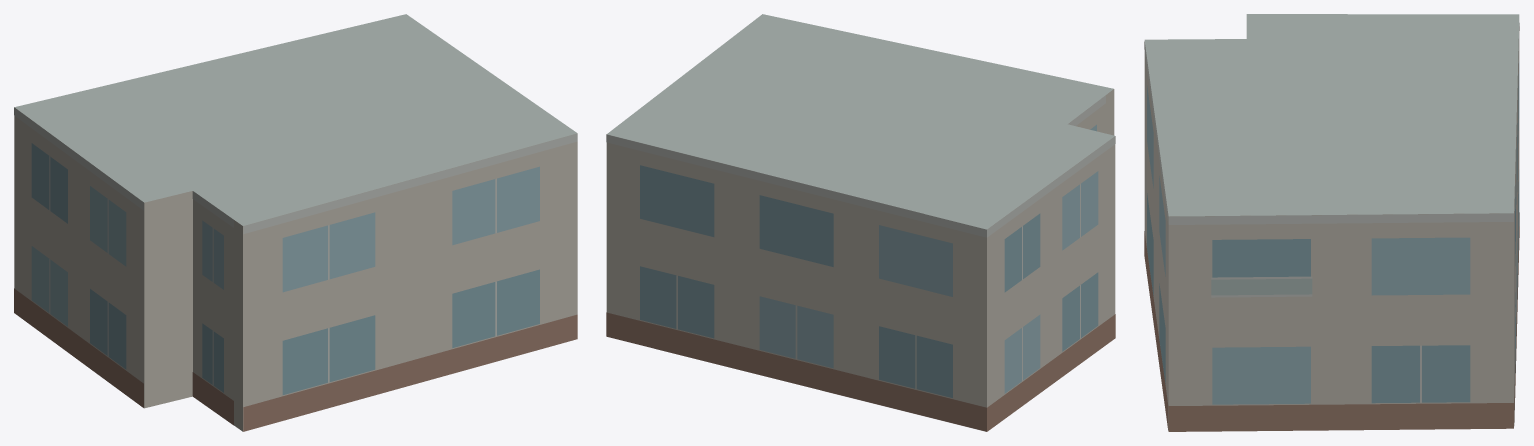
File: survey-upis-32971971.glb
3 views of the same model, side by side, from view 1: azimuth 30°, elevation 25°; view 2: azimuth 150°, elevation 25°; view 3: azimuth 270°, elevation 25° (orthographic). The views are drawn at different scales.
Visible parts, largest first — view 1: survey-upis-32971971.tmp; view 2: survey-upis-32971971.tmp; view 3: survey-upis-32971971.tmp.
Part boxes in pixels (x1=…): survey-upis-32971971.tmp: x1=14, y1=14, x2=577, y2=431; survey-upis-32971971.tmp: x1=606, y1=14, x2=1115, y2=431; survey-upis-32971971.tmp: x1=1144, y1=14, x2=1519, y2=431.
Bounding box in the file's own units: 12.32 × 6.1 × 9.64.
